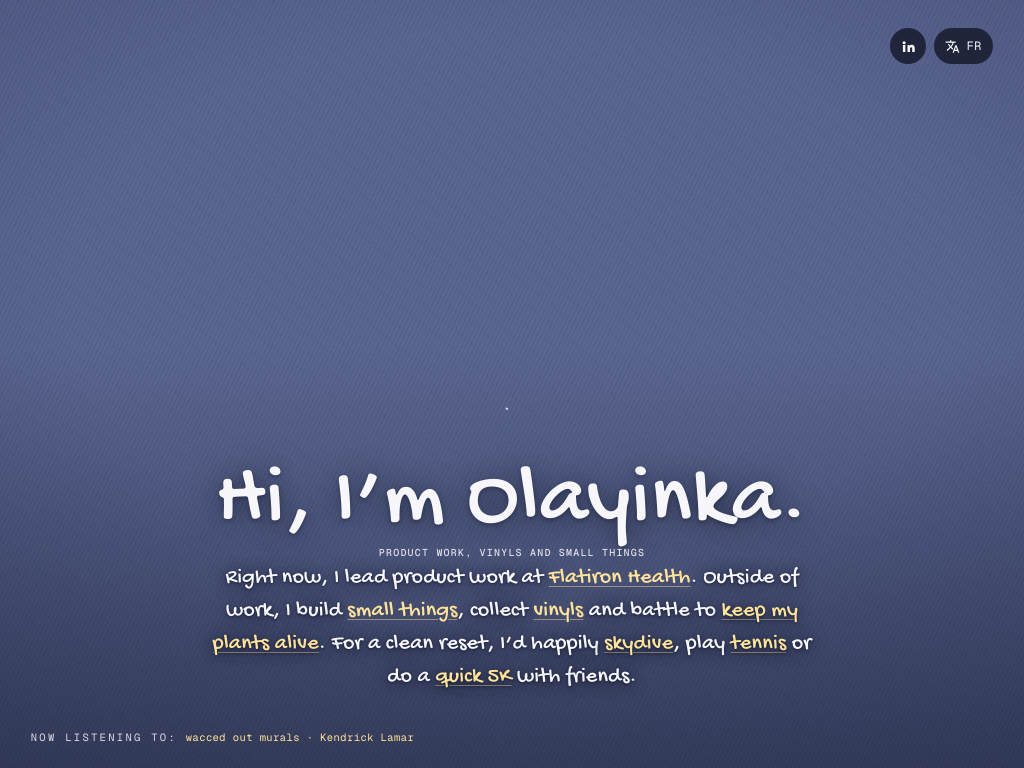
Test: Home › opens the NATO speller on click and closes it with Escape
Click the button "small things".
click(402, 611)  # box [345,595,459,628]
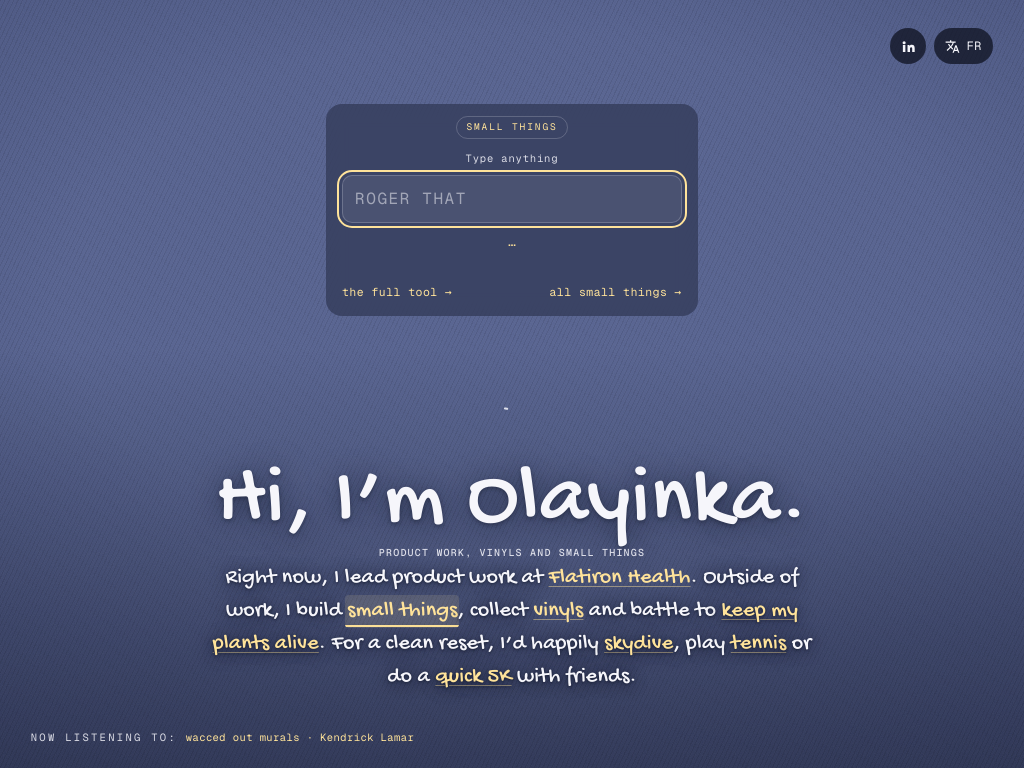
Now the button "small things" is expanded, box [345,595,459,628]
Type "ab!" into the field labelled "Type anything".
click(512, 199); type("ab!")  # box [342,175,682,223]
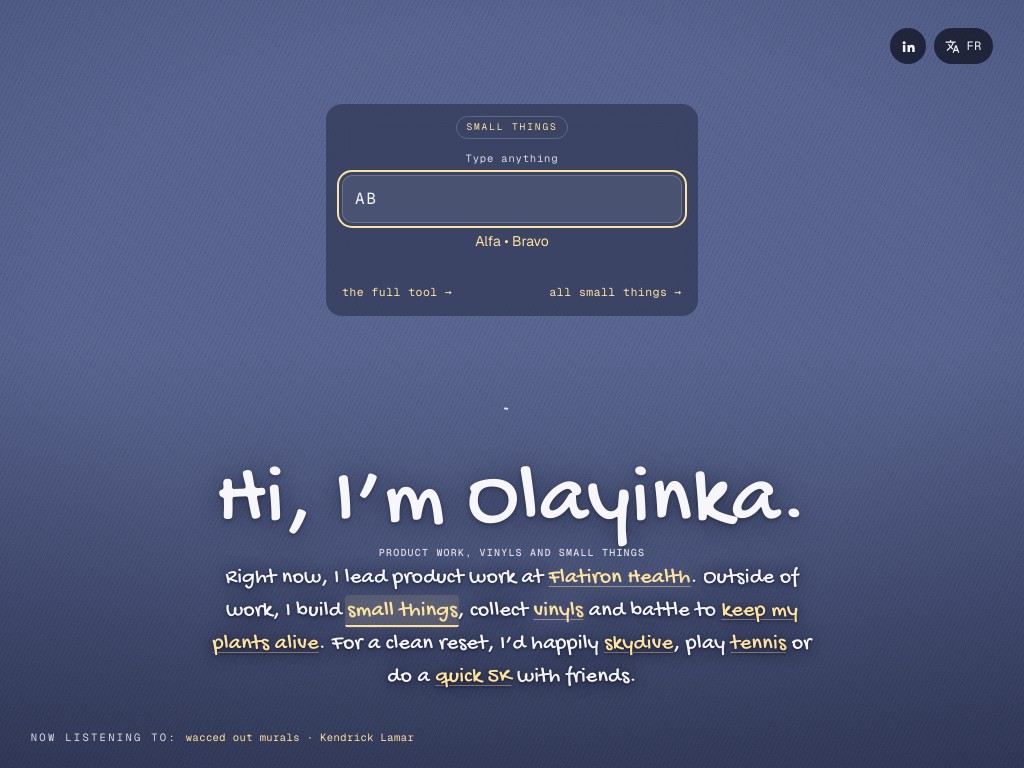
Now the text "Alfa • Bravo" is shown, box [475,232,549,250]
Press Escape
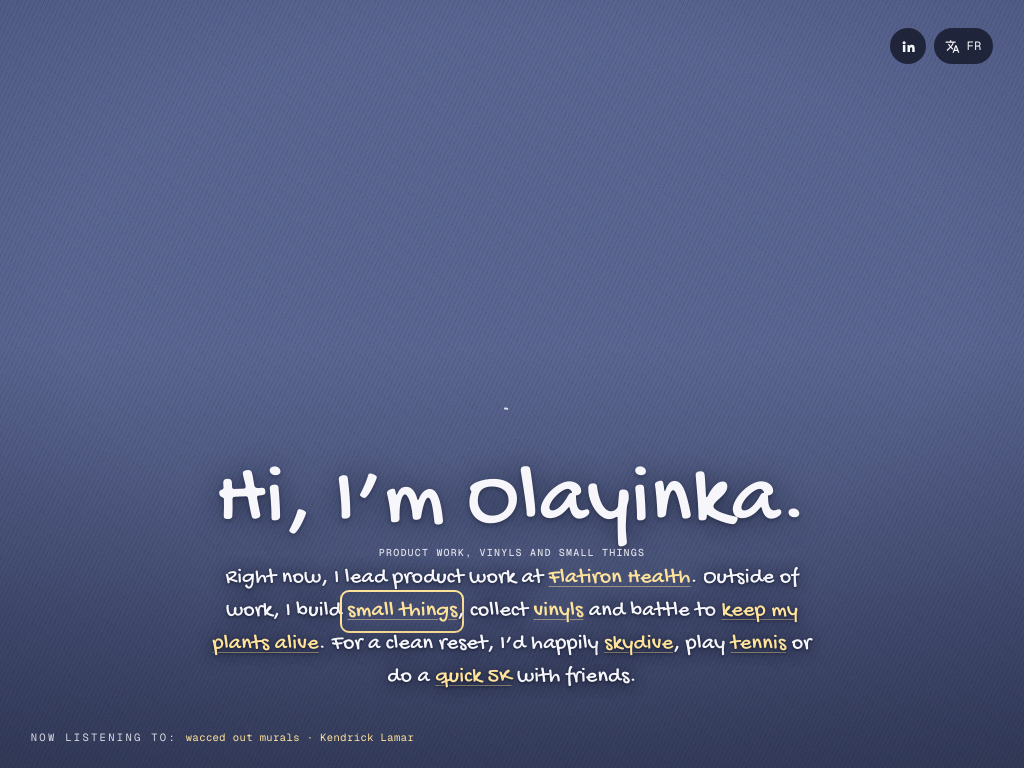
Now the button "small things" is collapsed, box [345,595,459,628]
Now the element with class "hm-panel" is gone
